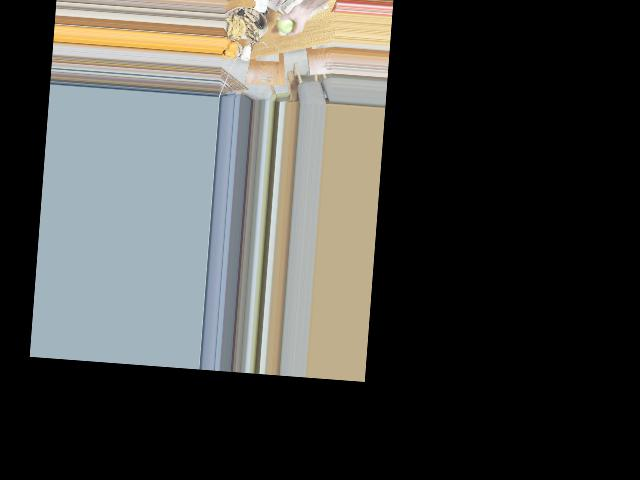apple: (275, 12, 300, 34)
